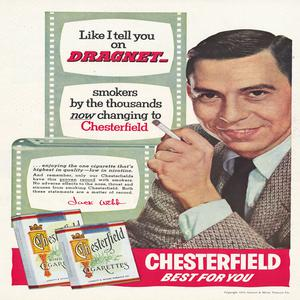cigarette: (153, 116, 191, 149)
